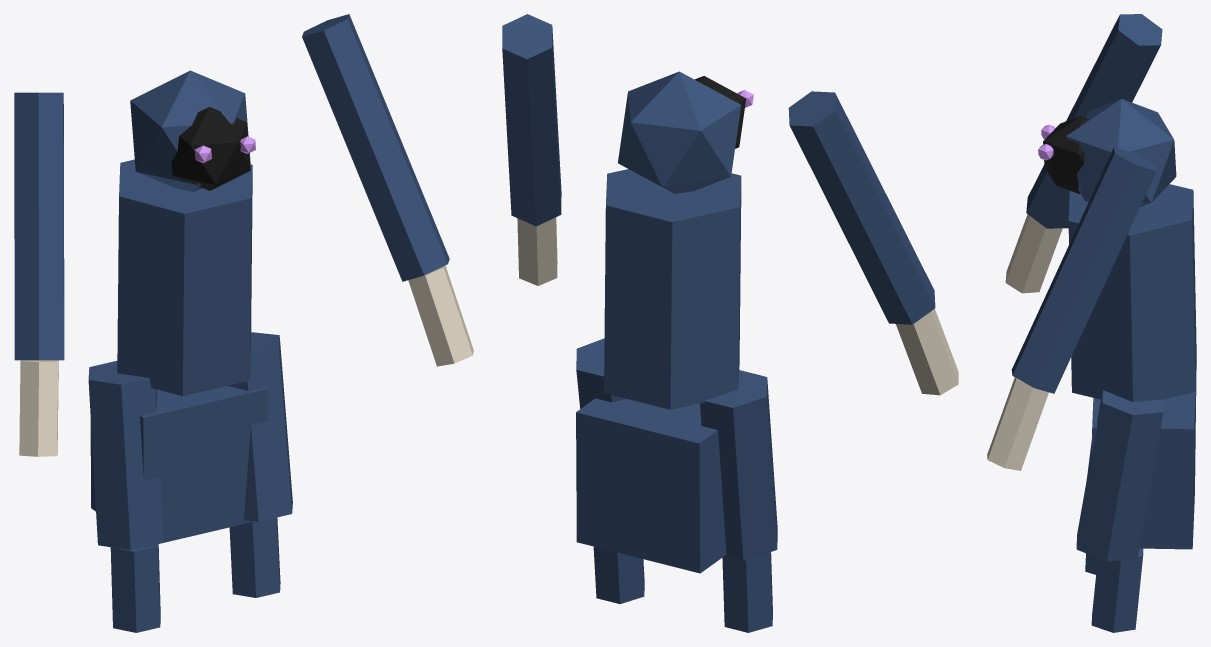
Rendered from npcpose_wraith_idle_07.glb.
The picture shows the model from 3 angles, left to right: view 1: azimuth 30°, elevation 25°; view 2: azimuth 150°, elevation 25°; view 3: azimuth 270°, elevation 25°; orthographic projection. The views are drawn at different scales.
Visible parts, largest first — view 1: npcpose; view 2: npcpose; view 3: npcpose.
Boxes of the visible parts, bbox=[...] form: npcpose: bbox=[14, 14, 473, 632]; npcpose: bbox=[502, 14, 958, 632]; npcpose: bbox=[987, 14, 1196, 632].
Bounding box in the file's own units: 0.9383 × 1.11 × 0.411.
